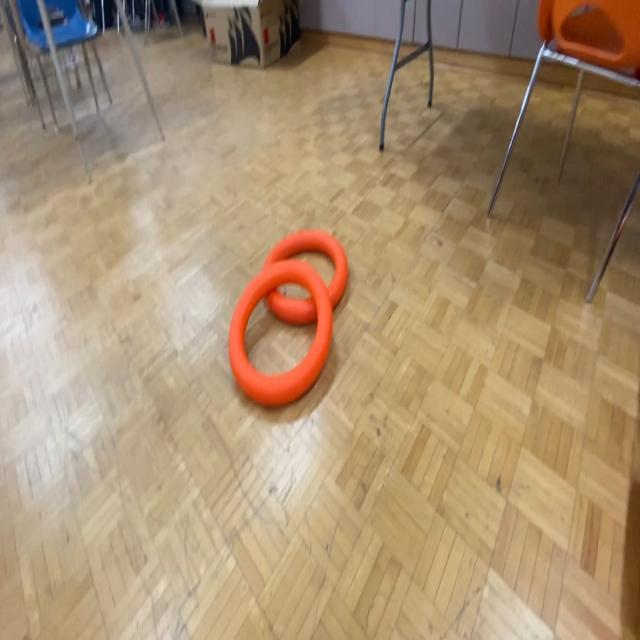note: (226, 257, 332, 411), (260, 227, 346, 325)
